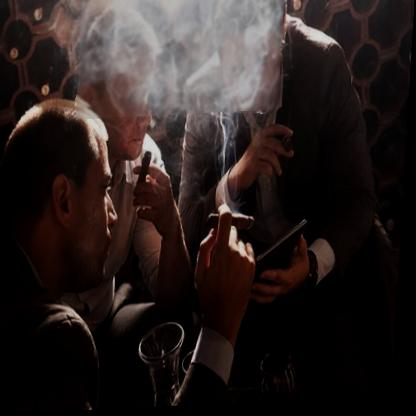smoke: (77, 0, 285, 121)
